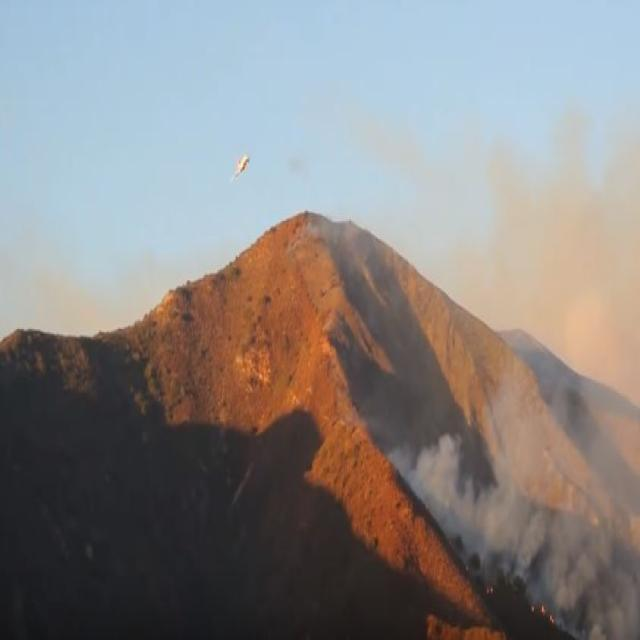Fire: (531, 600, 555, 627), (486, 582, 492, 596)
Smoke: (385, 434, 640, 568), (557, 572, 640, 640)
